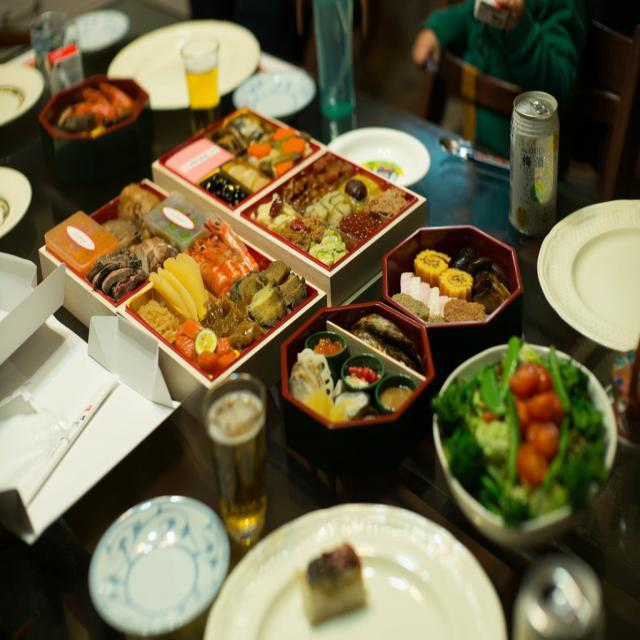Salad: (433, 331, 615, 520)
